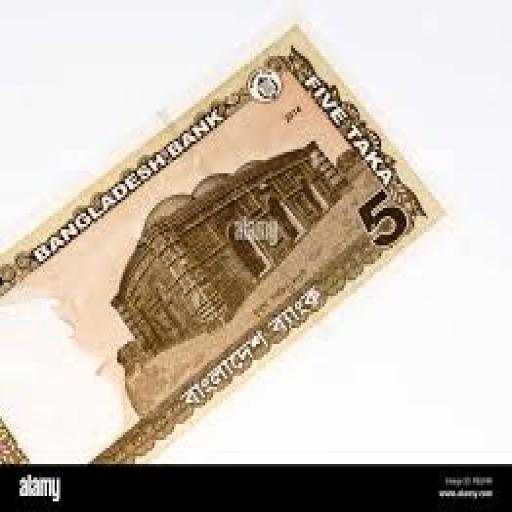5taka: (0, 24, 442, 461)
